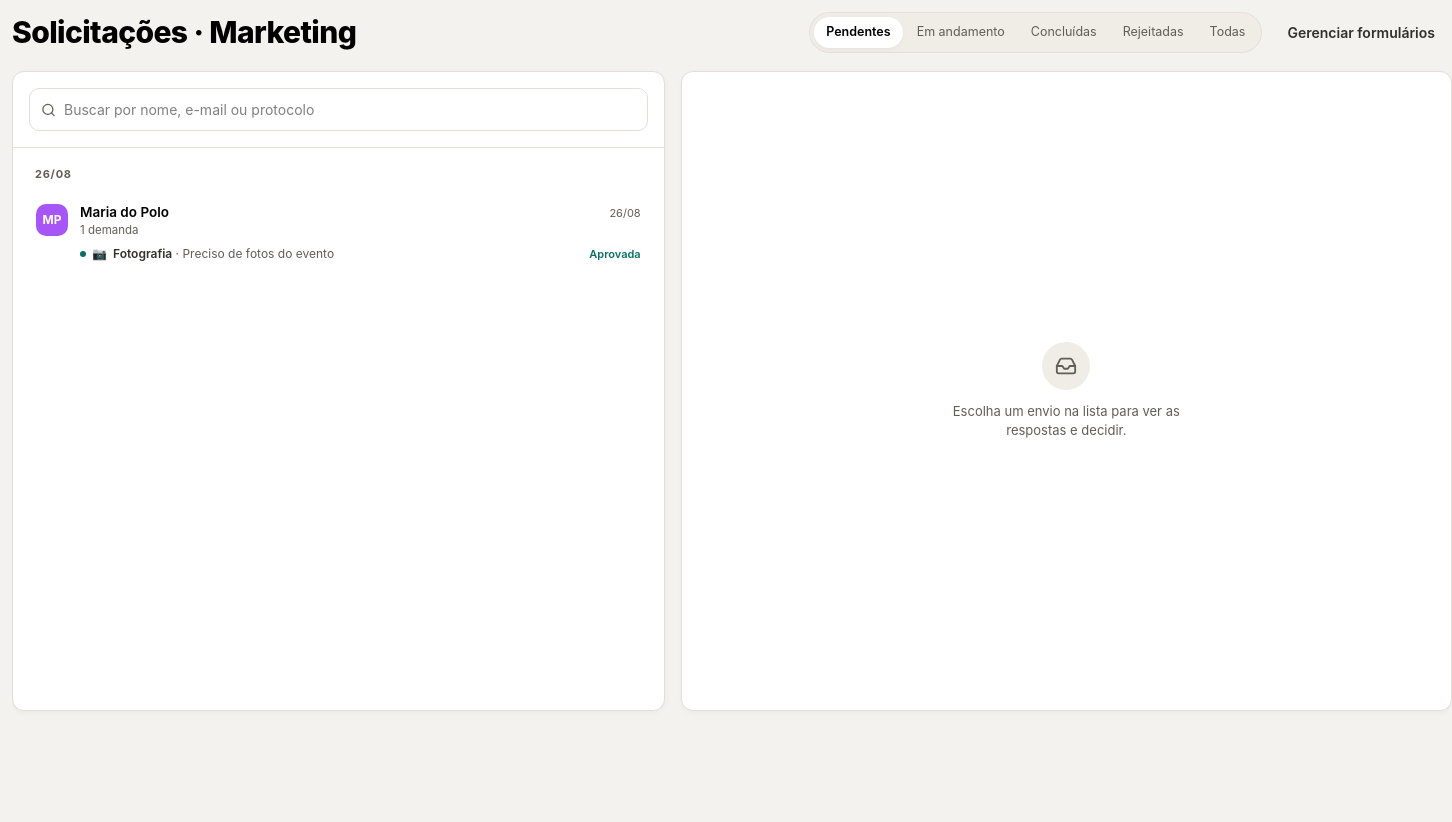
Test case: criar a tarefa a partir do pedido › ⚠️ tarefa APAGADA não vira link que leva a lugar nenhum
Click the text "Maria do Polo": point(124, 212) [80, 204, 169, 220]
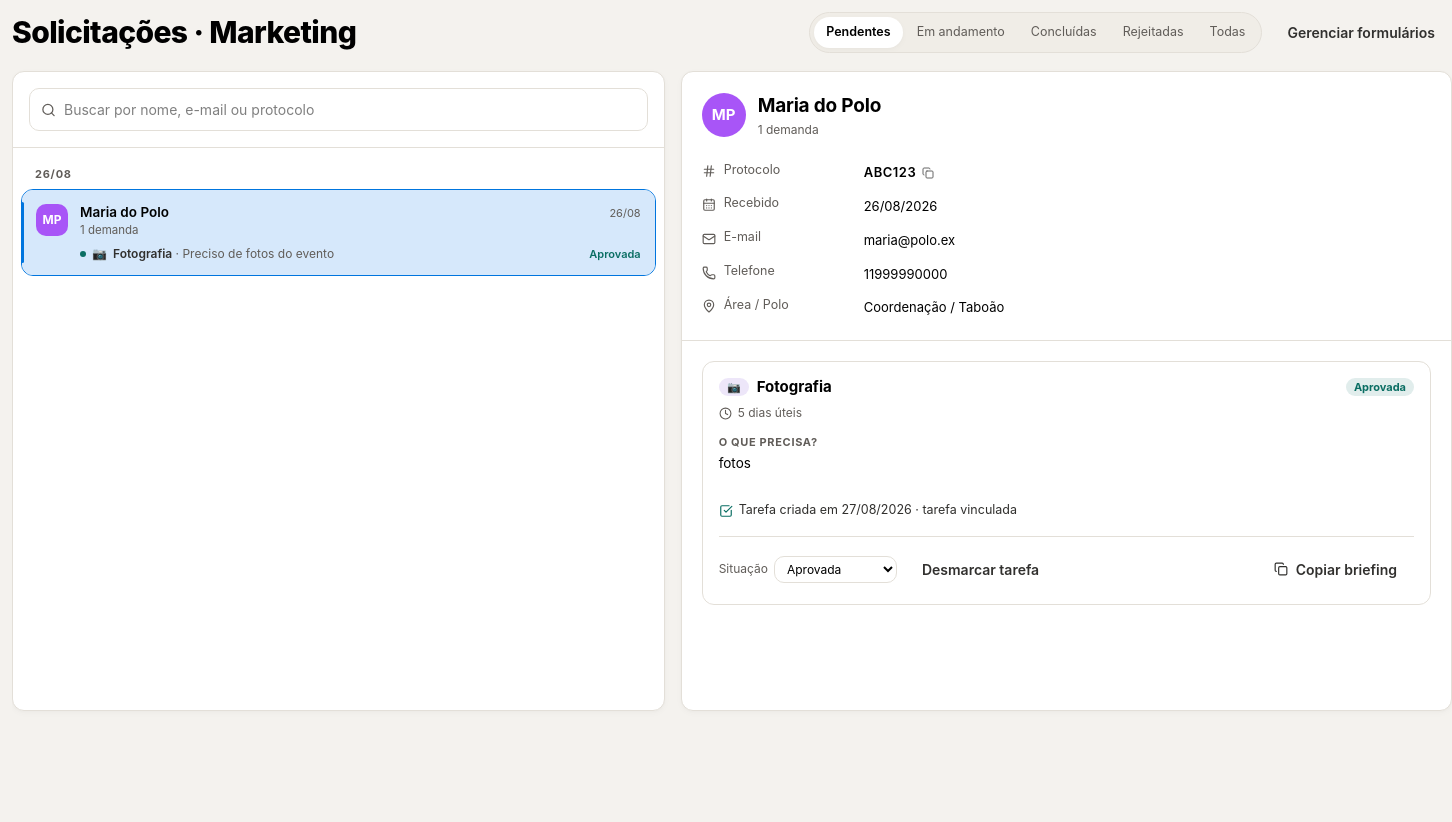
Result: the text "Tarefa criada em 27/08/2026 · tarefa vinculada" is shown at [719, 502, 1017, 518]
